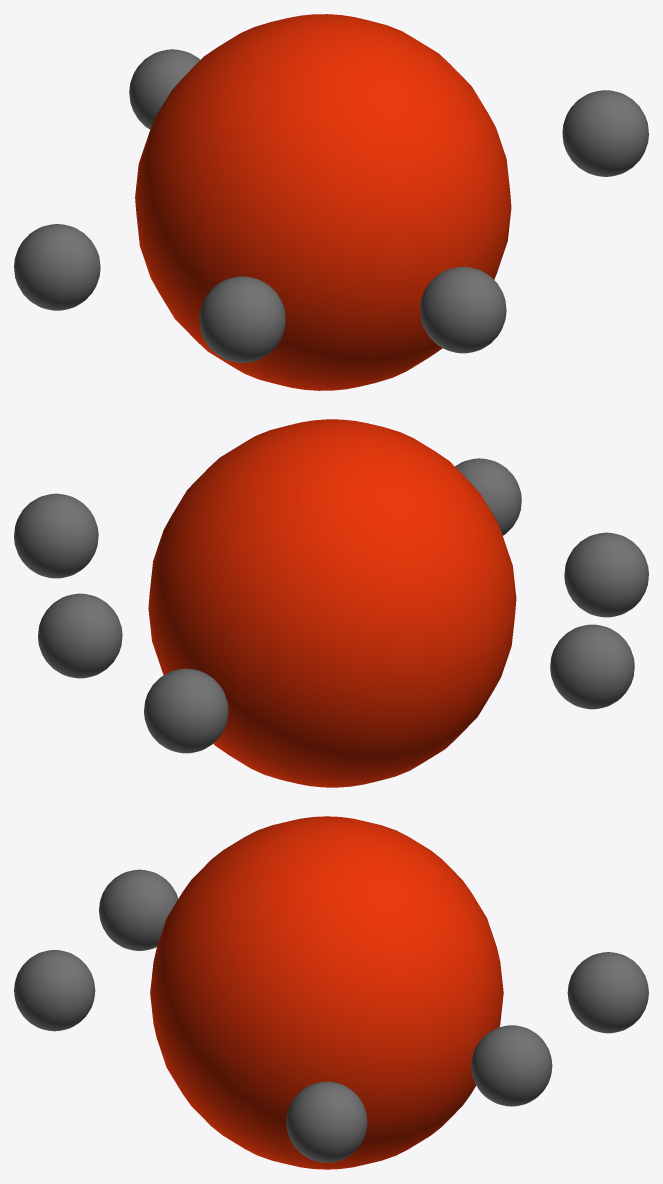
Rendered from oxygenmodelatom.gltf.
3 renders of one model, top to bottom at view 1: azimuth 30°, elevation 25°; view 2: azimuth 150°, elevation 25°; view 3: azimuth 270°, elevation 25°, orthographic. The views are drawn at different scales.
Visible parts, largest first — view 1: Sphere, Sphere.003, Sphere.001, Sphere.004, Sphere.002, Sphere.006; view 2: Sphere, Sphere.002, Sphere.004, Sphere.006, Sphere.005, Sphere.001, Sphere.003; view 3: Sphere, Sphere.001, Sphere.005, Sphere.006, Sphere.003, Sphere.004.
Part boxes in pixels (x1,y1,x2,y2): Sphere: (135,14,511,390); Sphere.003: (420,266,506,353); Sphere.001: (562,90,648,176); Sphere.004: (199,276,285,362); Sphere.002: (14,224,100,310); Sphere.006: (129,49,200,129); Sphere: (148,419,516,787); Sphere.002: (550,624,634,709); Sphere.004: (564,532,648,617); Sphere.006: (144,668,228,753); Sphere.005: (38,593,122,678); Sphere.001: (14,493,98,578); Sphere.003: (455,458,521,535); Sphere: (150,816,503,1169); Sphere.001: (286,1081,367,1162); Sphere.005: (471,1025,552,1106); Sphere.006: (567,952,648,1033); Sphere.003: (14,950,95,1031); Sphere.004: (99,869,178,950).
Size of the model in its own units: 3.82 by 2 by 3.59.
